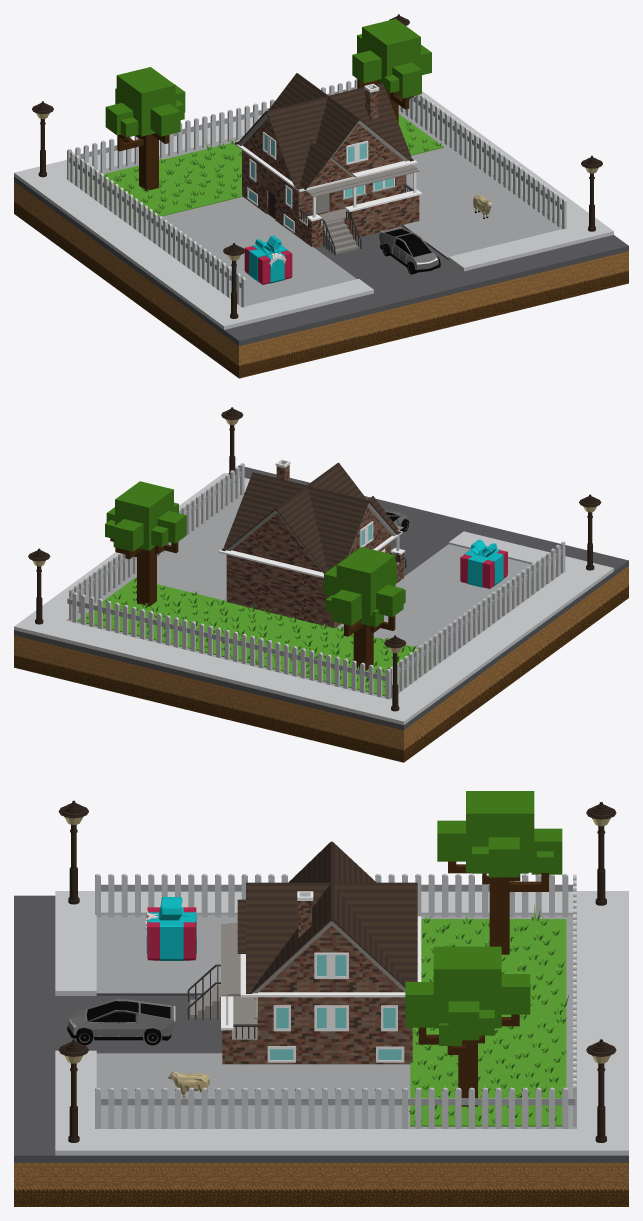
The picture shows the model from 3 angles, top to bottom: view 1: azimuth 30°, elevation 25°; view 2: azimuth 150°, elevation 25°; view 3: azimuth 270°, elevation 25°; orthographic projection. The views are drawn at different scales.
Parts seen in each view (by area): view 1: Cube.004, Cube.117, OBJRANDOM_GIANT_PRESENT, VEHICLES_CYBERTRUCK; view 2: Cube.004, Cube.117, OBJRANDOM_GIANT_PRESENT; view 3: Cube.004, Cube.117, VEHICLES_CYBERTRUCK, OBJRANDOM_GIANT_PRESENT, ANIMAL_OVEJA.
Boxes of the visible parts, <box> form: Cube.004: <box>14,14,628,378</box>; Cube.117: <box>233,73,421,255</box>; OBJRANDOM_GIANT_PRESENT: <box>244,235,292,284</box>; VEHICLES_CYBERTRUCK: <box>379,227,440,274</box>; Cube.004: <box>14,407,628,762</box>; Cube.117: <box>218,459,406,627</box>; OBJRANDOM_GIANT_PRESENT: <box>460,539,507,588</box>; Cube.004: <box>14,791,628,1206</box>; Cube.117: <box>187,841,421,1064</box>; VEHICLES_CYBERTRUCK: <box>67,999,175,1045</box>; OBJRANDOM_GIANT_PRESENT: <box>145,897,196,960</box>; ANIMAL_OVEJA: <box>168,1071,209,1098</box>.
Size of the model in its own units: 4000 by 1702 by 4000.
Materials: 31 (4 with a texture image).
